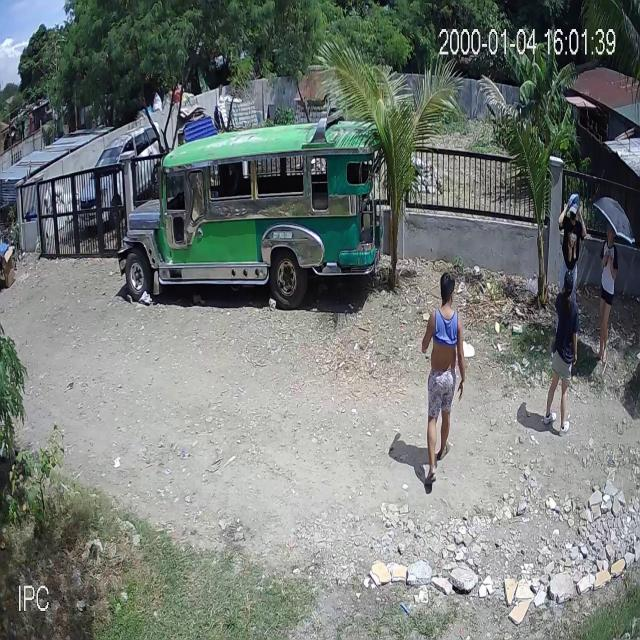standing: (545, 269, 580, 437), (592, 227, 617, 367), (559, 188, 585, 306)
walking: (419, 276, 466, 498)
